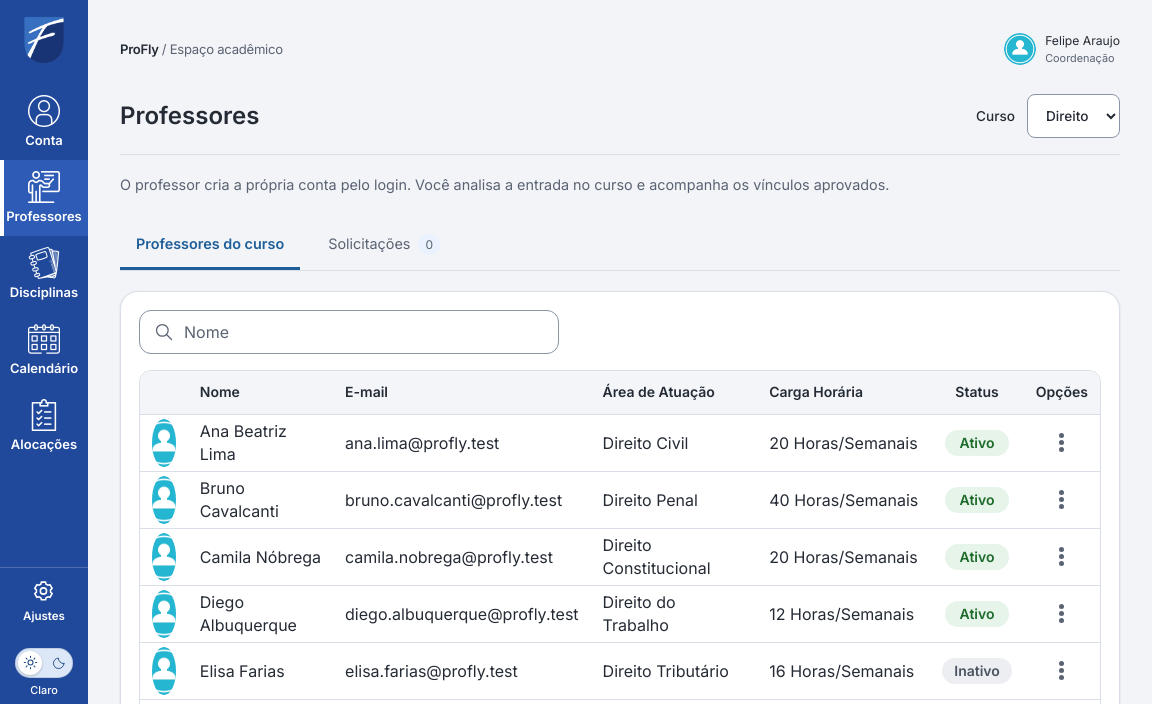
Test: Professores e solicitacoes › abre o perfil sem permitir trocar dados declarados ou criar uma conta por convite
Check: the text "Ana Beatriz Lima" is shown, box [188,415,333,472]
Click the button named "Opções de Ana Beatriz Lima" at (1062, 443), box [1040,421,1084,465]
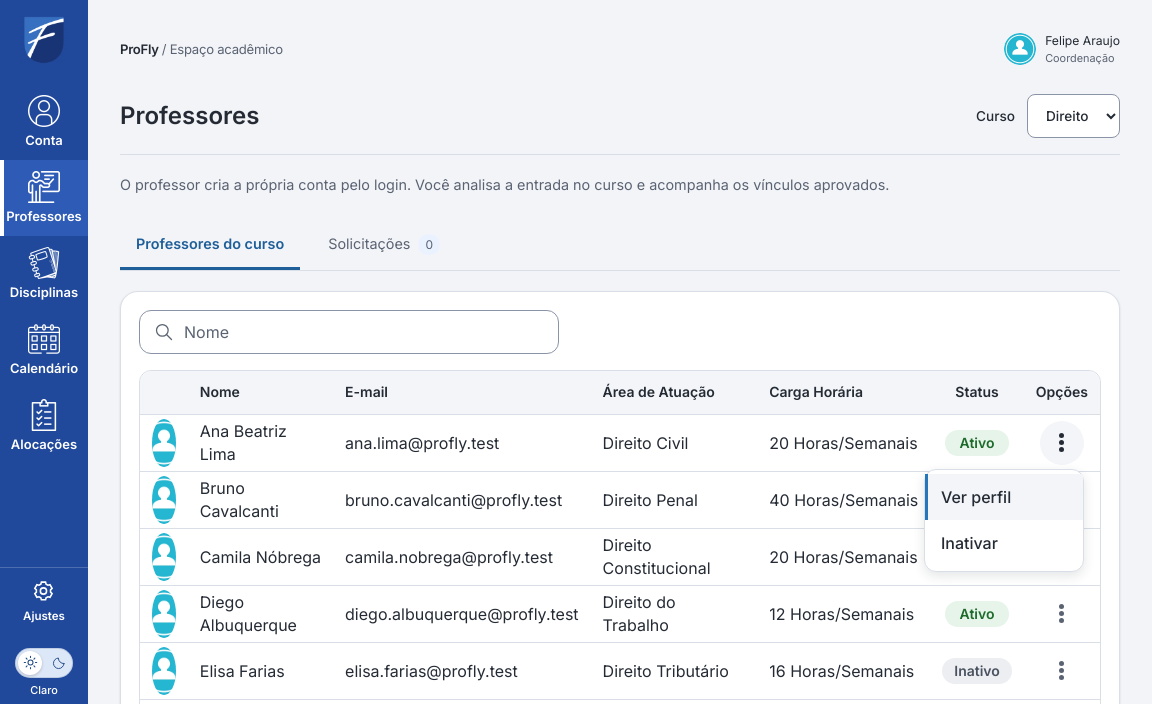
Click the menu item "Ver perfil" at (1004, 497), box [925,474,1083,520]
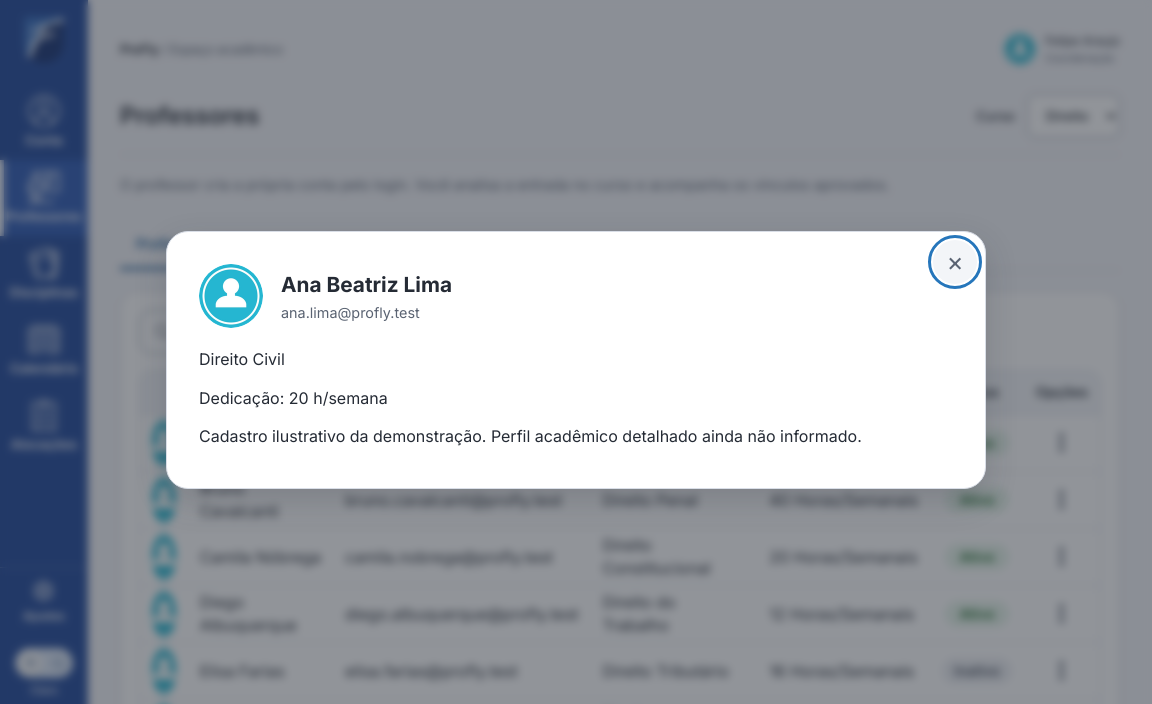
Check: the dialog named "Perfil do professor" shows "ana.lima@profly.test", box [281,304,420,321]
